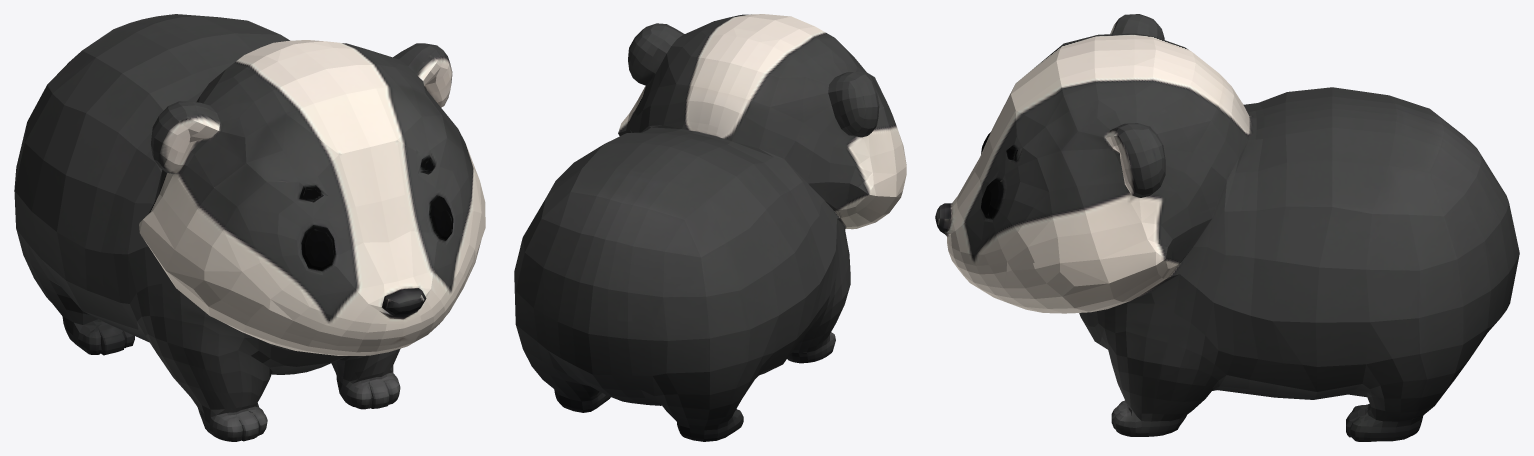
File: badger.glb
3 renders of one model, left to right at view 1: azimuth 30°, elevation 25°; view 2: azimuth 150°, elevation 25°; view 3: azimuth 270°, elevation 25°, orthographic. The views are drawn at different scales.
Visible parts, largest first — view 1: Badger; view 2: Badger; view 3: Badger.
Part boxes in pixels (x1=…): Badger: x1=14, y1=14, x2=485, y2=441; Badger: x1=514, y1=14, x2=906, y2=441; Badger: x1=935, y1=14, x2=1519, y2=441.
Bounding box in the file's own units: 1.11 × 1.24 × 1.91.
1 material, 1 textured.
